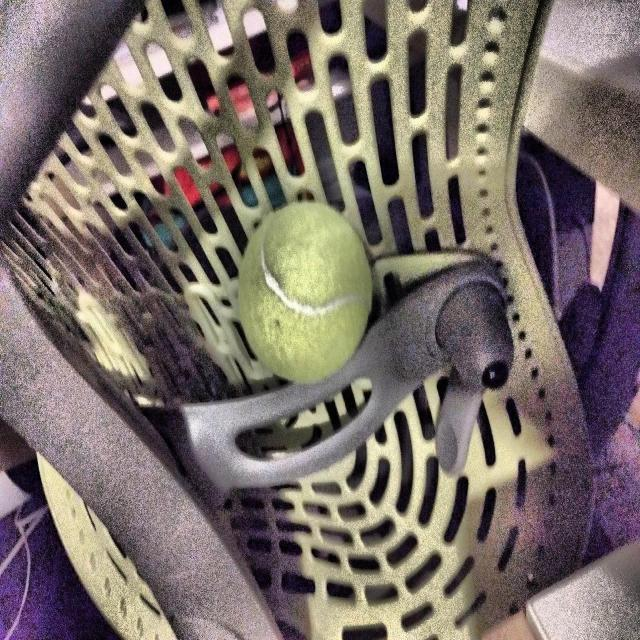tennis-ball: (231, 200, 373, 388)
